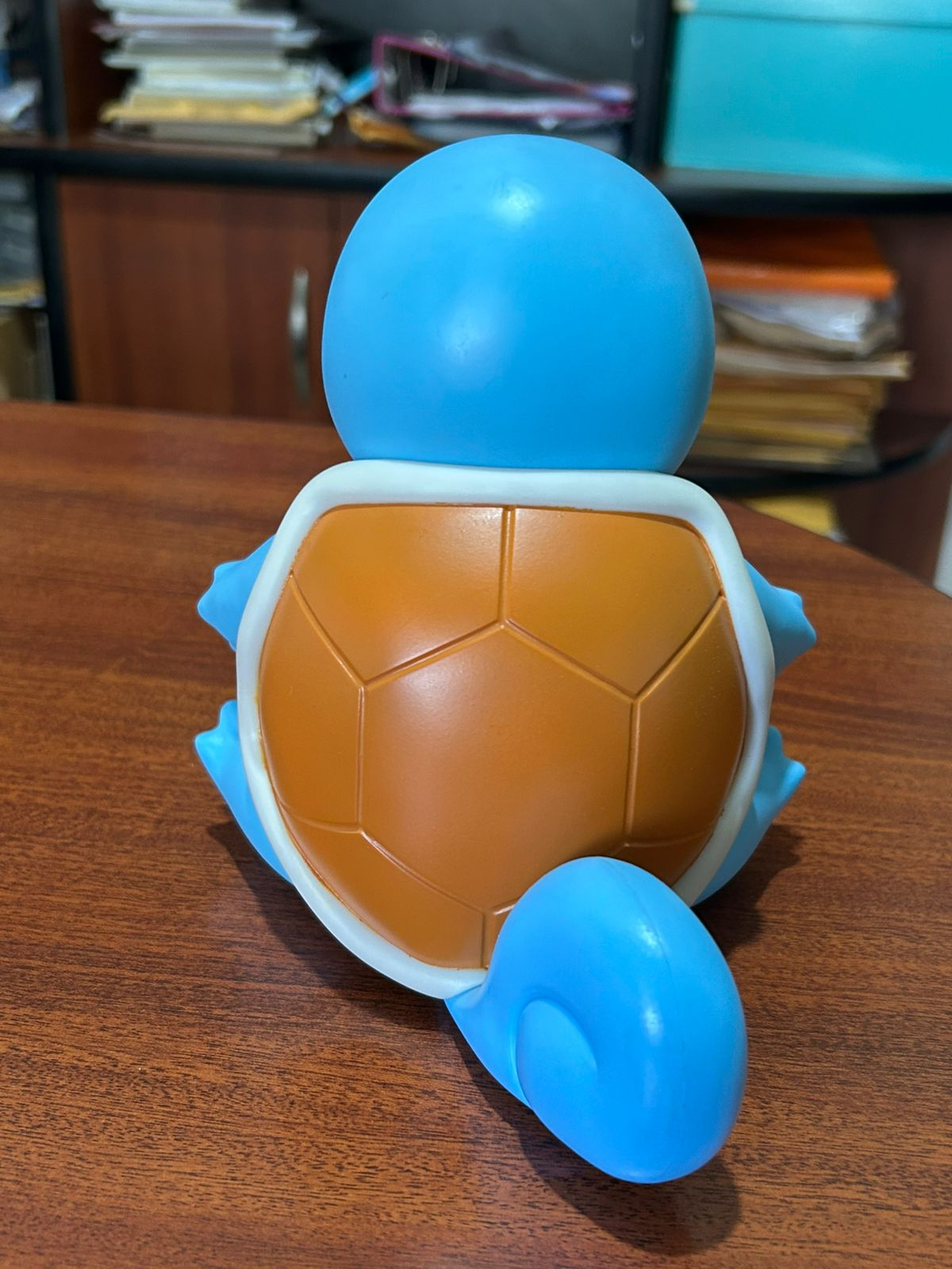Squirtle: (197, 136, 813, 1180)
